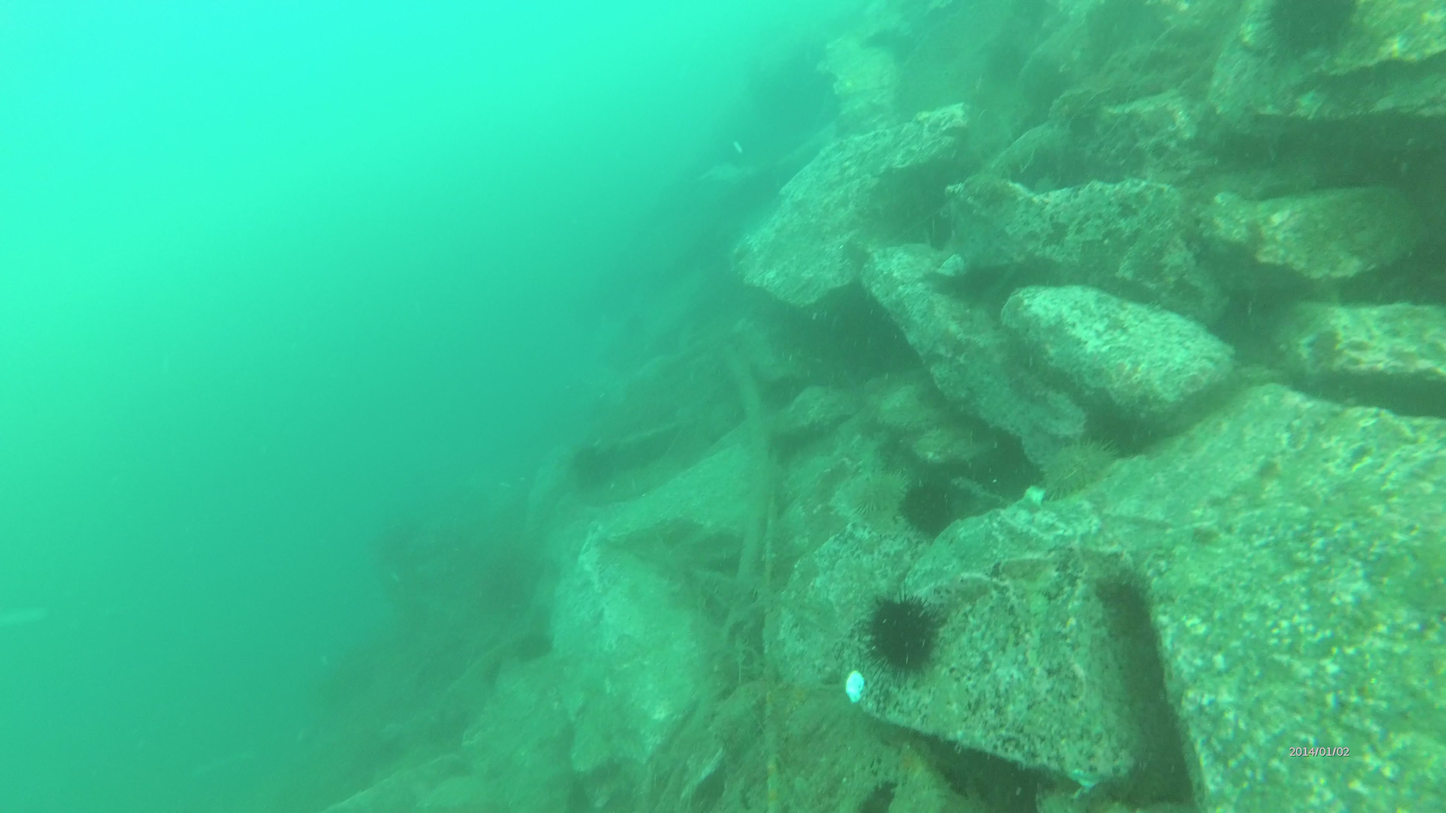echinus: (1042, 425, 1118, 497)
starfish: (852, 590, 944, 678), (1254, 0, 1365, 66), (900, 477, 951, 536), (515, 627, 557, 671)
